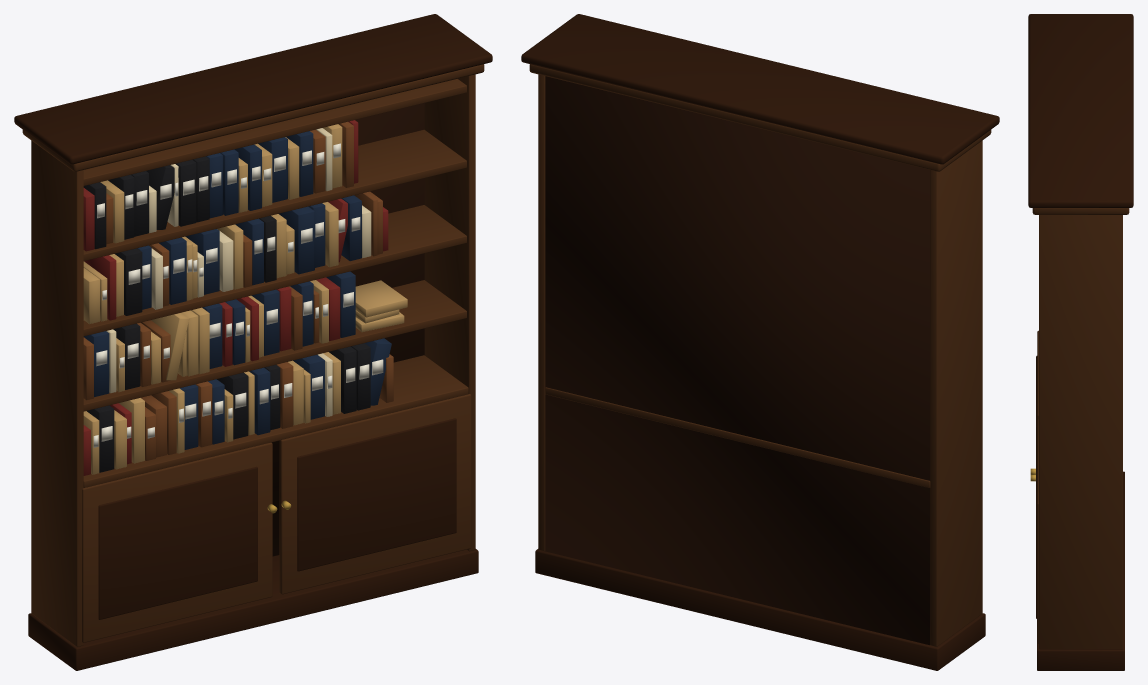
Rendered from frank_bookcase_B.glb.
3 views of the same model, side by side, from view 1: azimuth 30°, elevation 25°; view 2: azimuth 150°, elevation 25°; view 3: azimuth 270°, elevation 25° (orthographic). The views are drawn at different scales.
Parts seen in each view (by area): view 1: Bookcase_Walnut, Bookcase_WalnutDark, Bookcase_BinderNavy, Bookcase_BookTan, Bookcase_BinderBlack, Bookcase_BookBrown, Bookcase_Label, Bookcase_BackPanel, Bookcase_BookOxblood, Bookcase_BookCream; view 2: Bookcase_BackPanel, Bookcase_WalnutDark, Bookcase_Walnut; view 3: Bookcase_Walnut, Bookcase_WalnutDark.
Boxes of the visible parts, x1,y1,x2,y2 form: Bookcase_Walnut: (22,64,484,646); Bookcase_WalnutDark: (14,14,492,670); Bookcase_BinderNavy: (83,131,391,449); Bookcase_BookTan: (83,124,407,474); Bookcase_BinderBlack: (83,156,370,472); Bookcase_BookBrown: (83,121,393,460); Bookcase_Label: (93,143,383,447); Bookcase_BackPanel: (141,103,424,556); Bookcase_BookOxblood: (83,120,388,475); Bookcase_BookCream: (106,128,371,416); Bookcase_BackPanel: (545,76,930,645); Bookcase_WalnutDark: (521,14,999,670); Bookcase_Walnut: (529,64,991,646); Bookcase_Walnut: (1032,208,1129,649); Bookcase_WalnutDark: (1028,14,1133,670).
Bounding box in the file's own units: 2.12 × 2.49 × 0.5.
